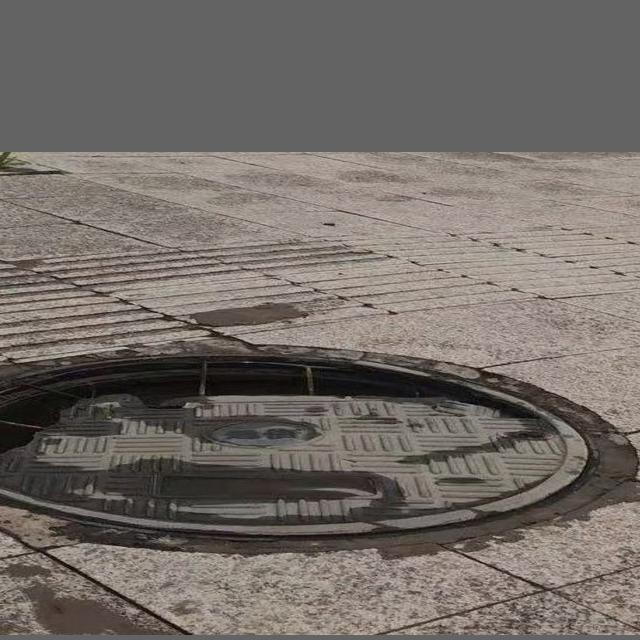broke: (0, 350, 597, 541)
